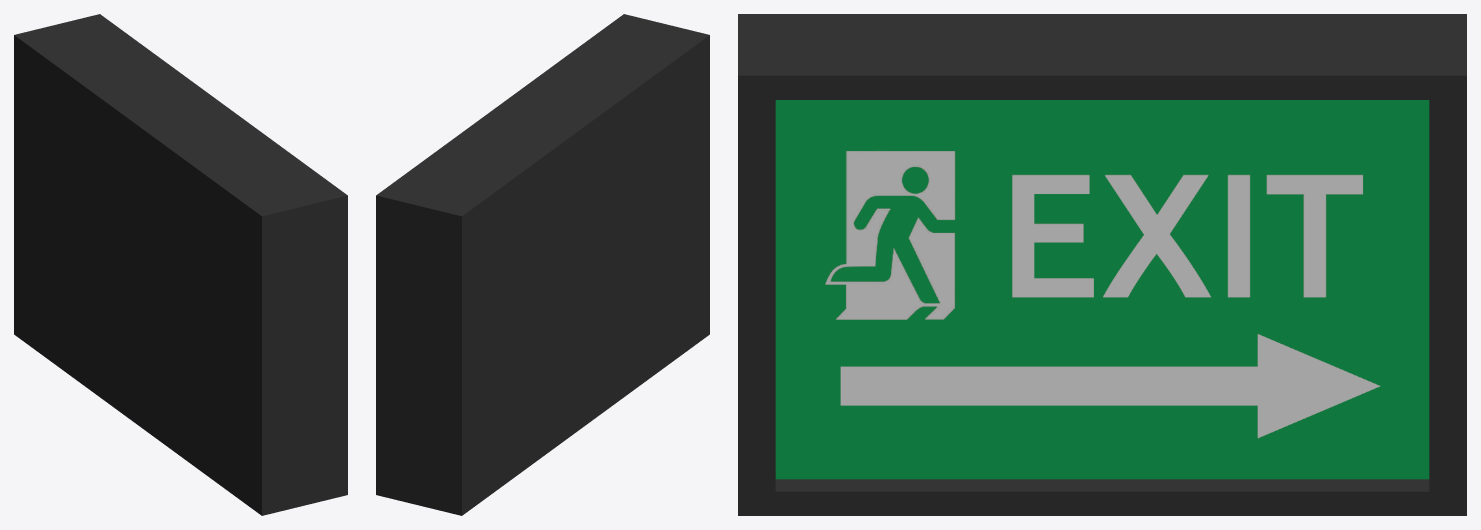
File: exit_right.glb
The picture shows the model from 3 angles, left to right: view 1: azimuth 30°, elevation 25°; view 2: azimuth 150°, elevation 25°; view 3: azimuth 270°, elevation 25°; orthographic projection. The views are drawn at different scales.
Parts seen in each view (by area): view 1: Cube; view 2: Cube; view 3: Cube.
Boxes of the visible parts, x1,y1,x2,y2 form: Cube: (14, 14, 347, 515); Cube: (376, 14, 709, 515); Cube: (738, 14, 1466, 515).
Bounding box in the file's own units: 0.6 × 2 × 3.
Materials: 1 (1 with a texture image).
